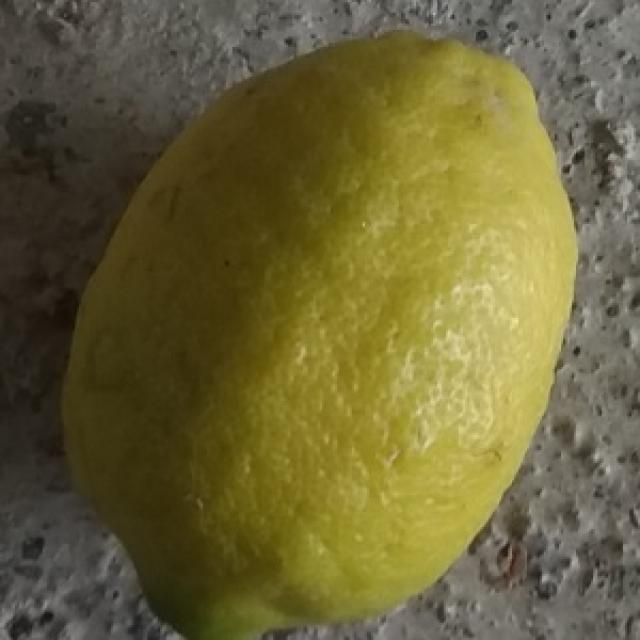Ripe: (50, 21, 585, 640)
